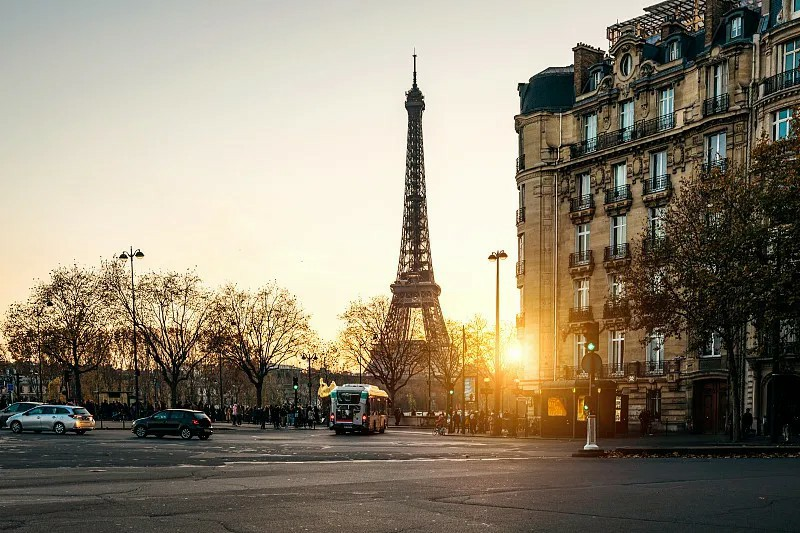Eiffel: (363, 47, 461, 378)
